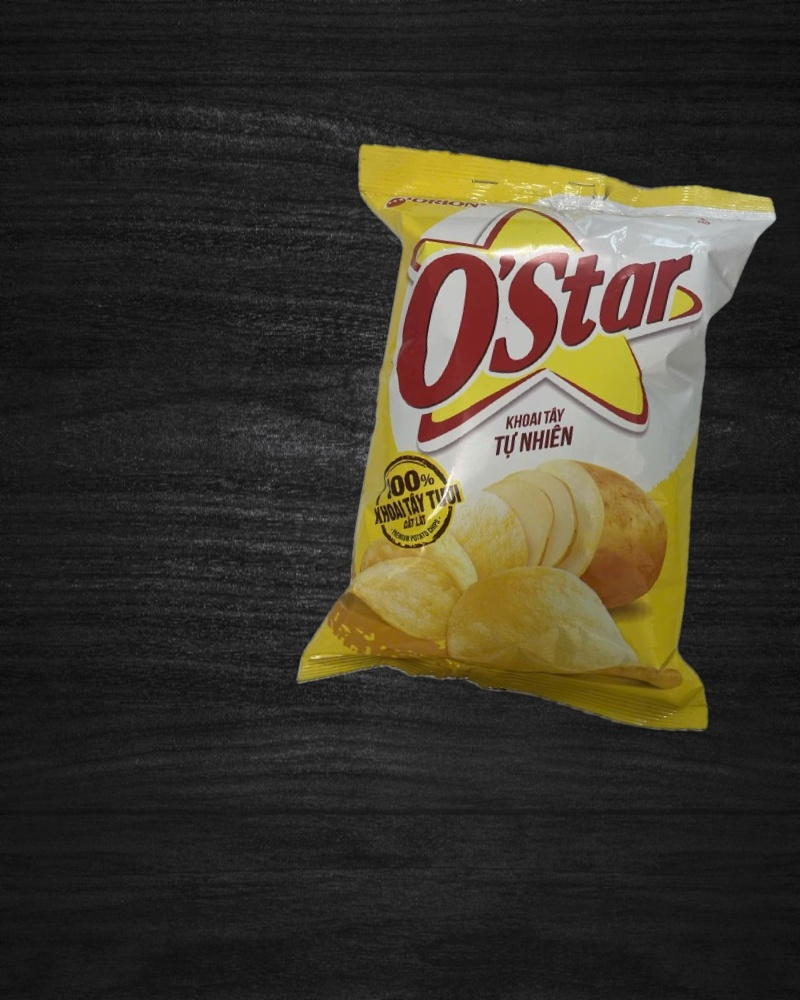O'star: (268, 126, 800, 755)
